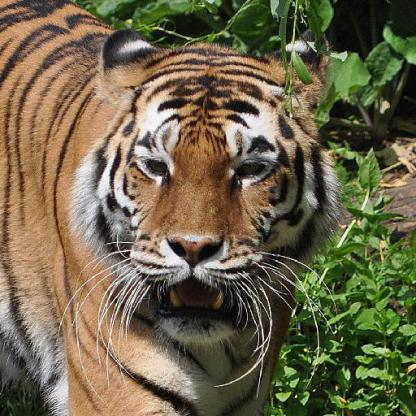tiger: (74, 41, 330, 322)
